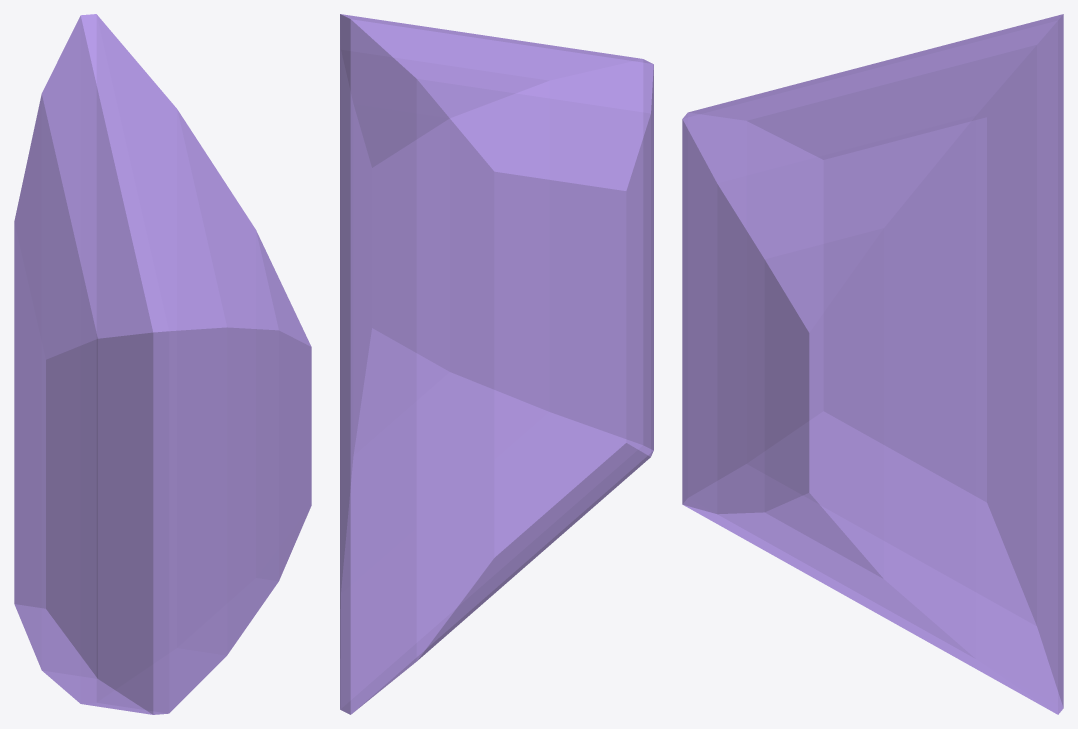
File: trapeze ametiste.glb
The picture shows the model from 3 angles, left to right: view 1: azimuth 30°, elevation 25°; view 2: azimuth 150°, elevation 25°; view 3: azimuth 270°, elevation 25°; orthographic projection.
Parts seen in each view (by area): view 1: Trapeze Gemstone.001; view 2: Trapeze Gemstone.001; view 3: Trapeze Gemstone.001.
Boxes of the visible parts, x1,y1,x2,y2 form: Trapeze Gemstone.001: (14, 14, 311, 714); Trapeze Gemstone.001: (340, 14, 653, 714); Trapeze Gemstone.001: (682, 14, 1063, 714).
Size of the model in its own units: 0.7447 by 1.89 by 0.9423.
